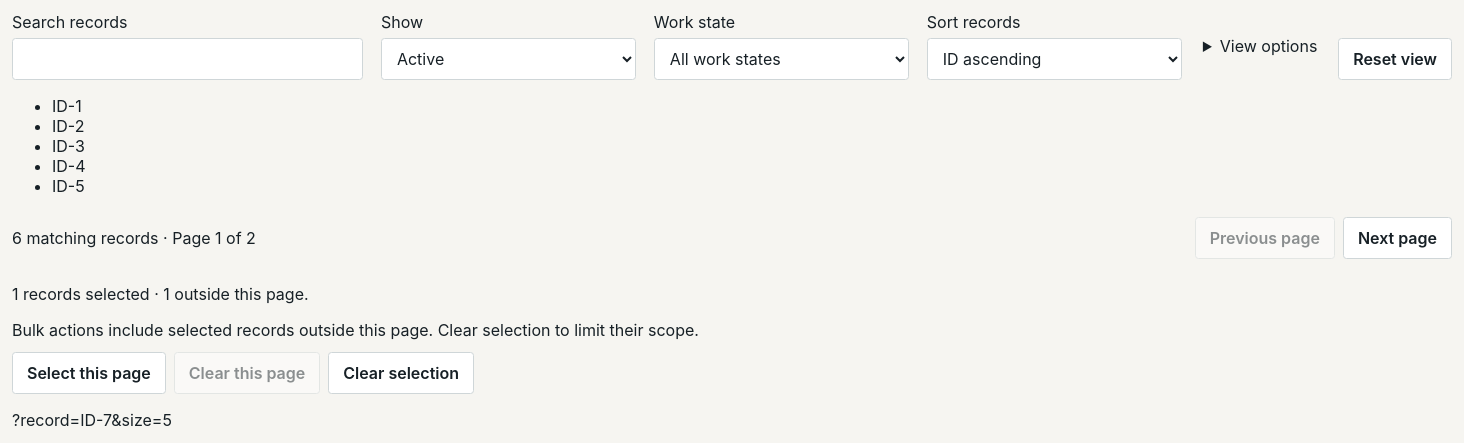
collection exploration controls › exposes hidden selection and resets an empty view without clearing selected IDs
Click the button "Select this page": (89, 373) [12,352,166,394]
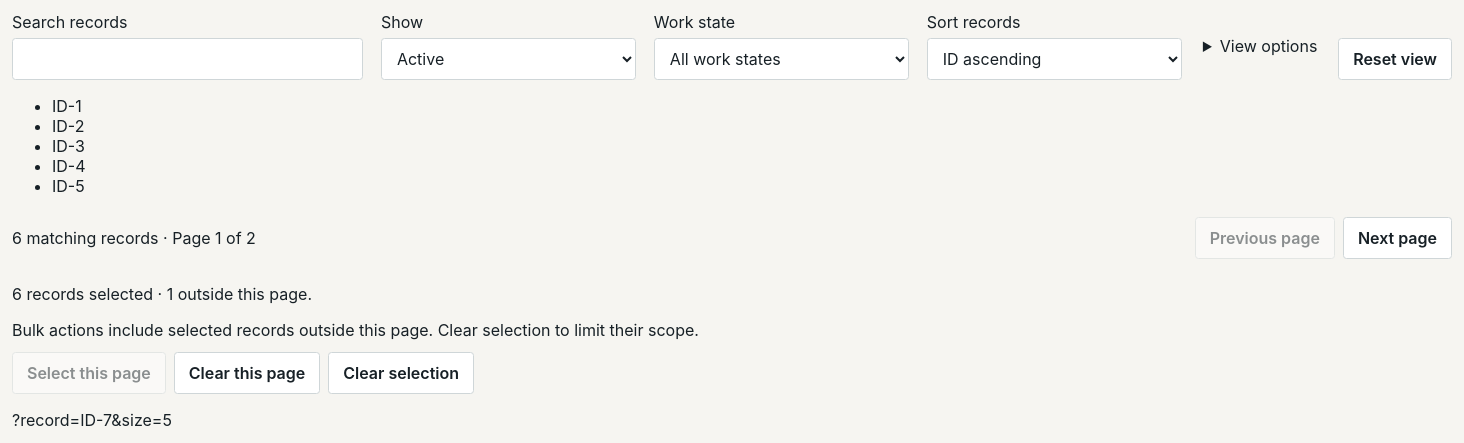
Check: the text "6 records selected · 1 outside this page." is shown, box [12,284,312,304]
In the field labelled "Search records": (188, 59) [12,38,363,80], type "missing"
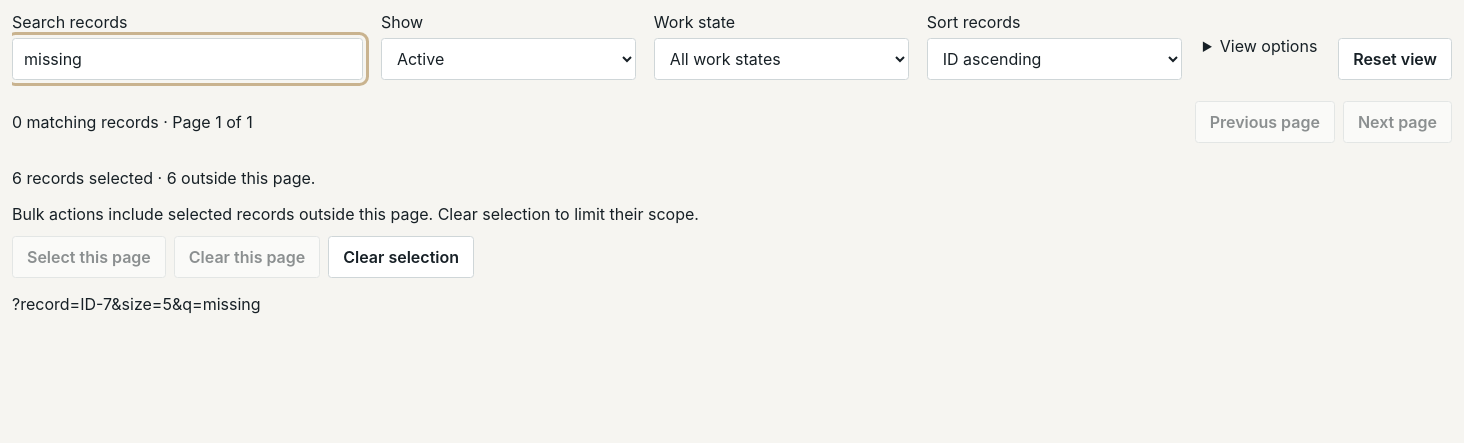
Check: the button "Select this page" is disabled, box [12,236,166,278]
Check: the text "6 records selected · 6 outside this page." is shown, box [12,168,315,188]
Click the button "Reset view": (1395, 59) [1338,38,1452,80]
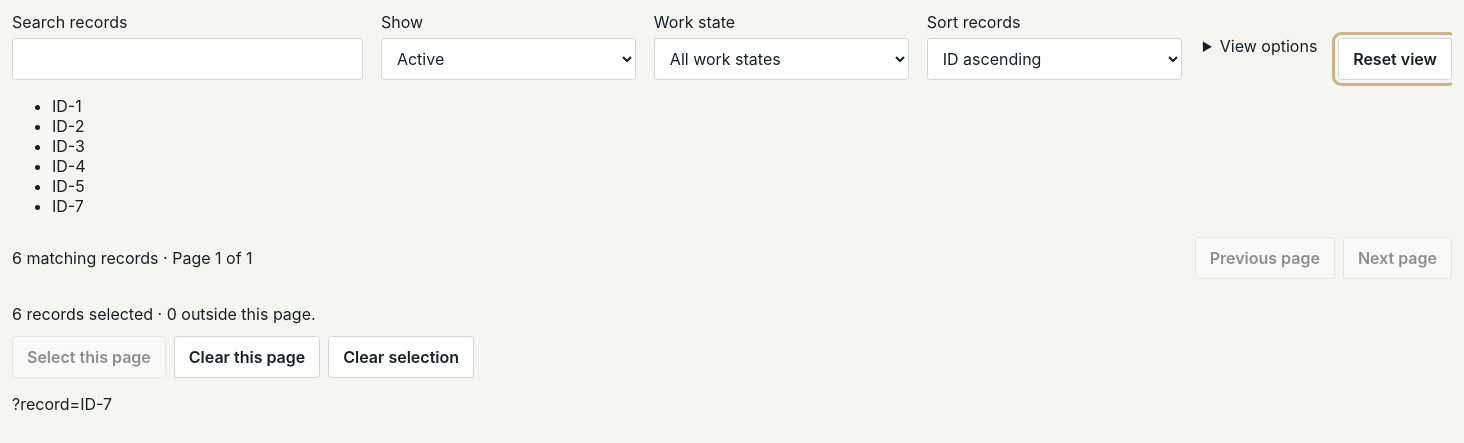
Check: the text "6 records selected · 0 outside this page." is shown, box [12,304,316,324]
Check: the text with test id "location" reads "?record=ID-7", box [12,394,112,414]
Click the button "Clear selection": (401, 357) [328,336,474,378]
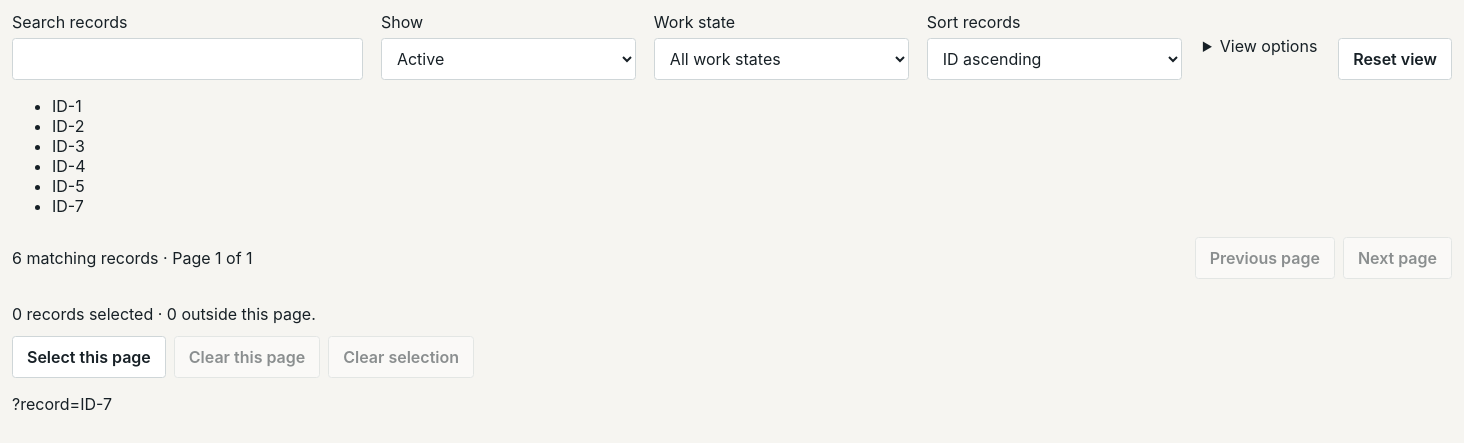
Check: the text "0 records selected · 0 outside this page." is shown, box [12,304,316,324]
